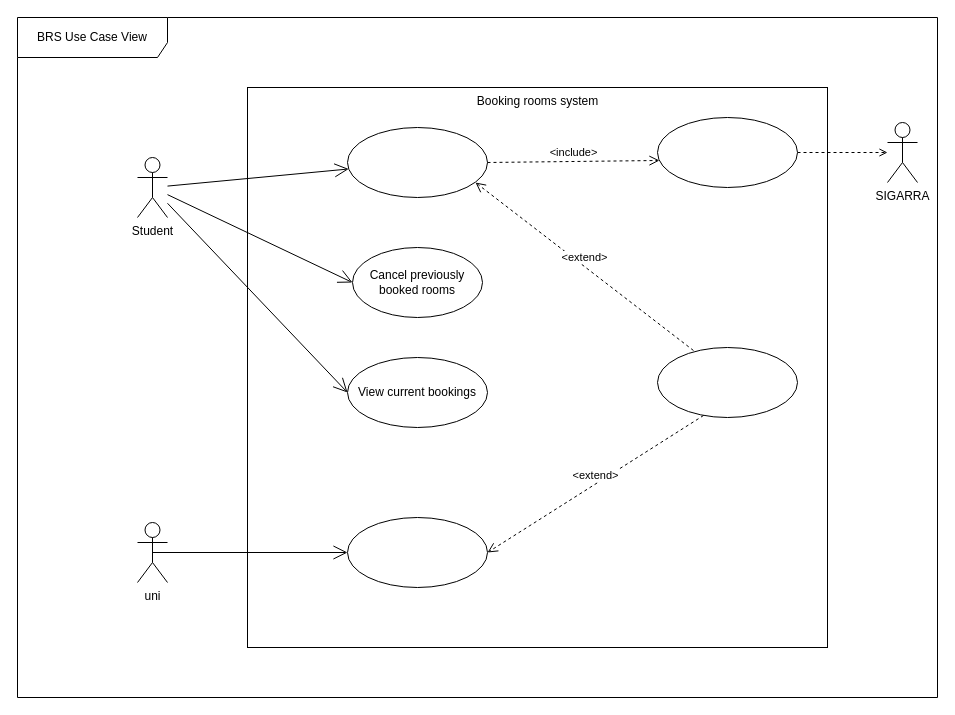
Image size: 955x715. Some labels were removed from this diagram. Each missing label, with the centre of its shape:
Book library rooms: the point at 417,162
Choose a date and a duration: the point at 727,382
MsC Student's API: the point at 727,152
Process request: the point at 417,552
